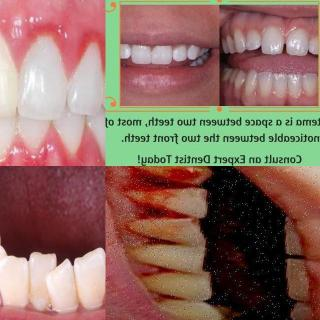Gum Swelling: (15, 15, 105, 65)
maligned: (132, 216, 206, 247), (46, 260, 82, 320)
